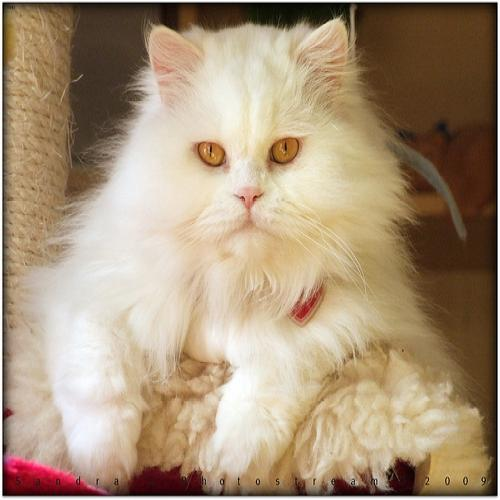persian: (137, 7, 372, 284)
